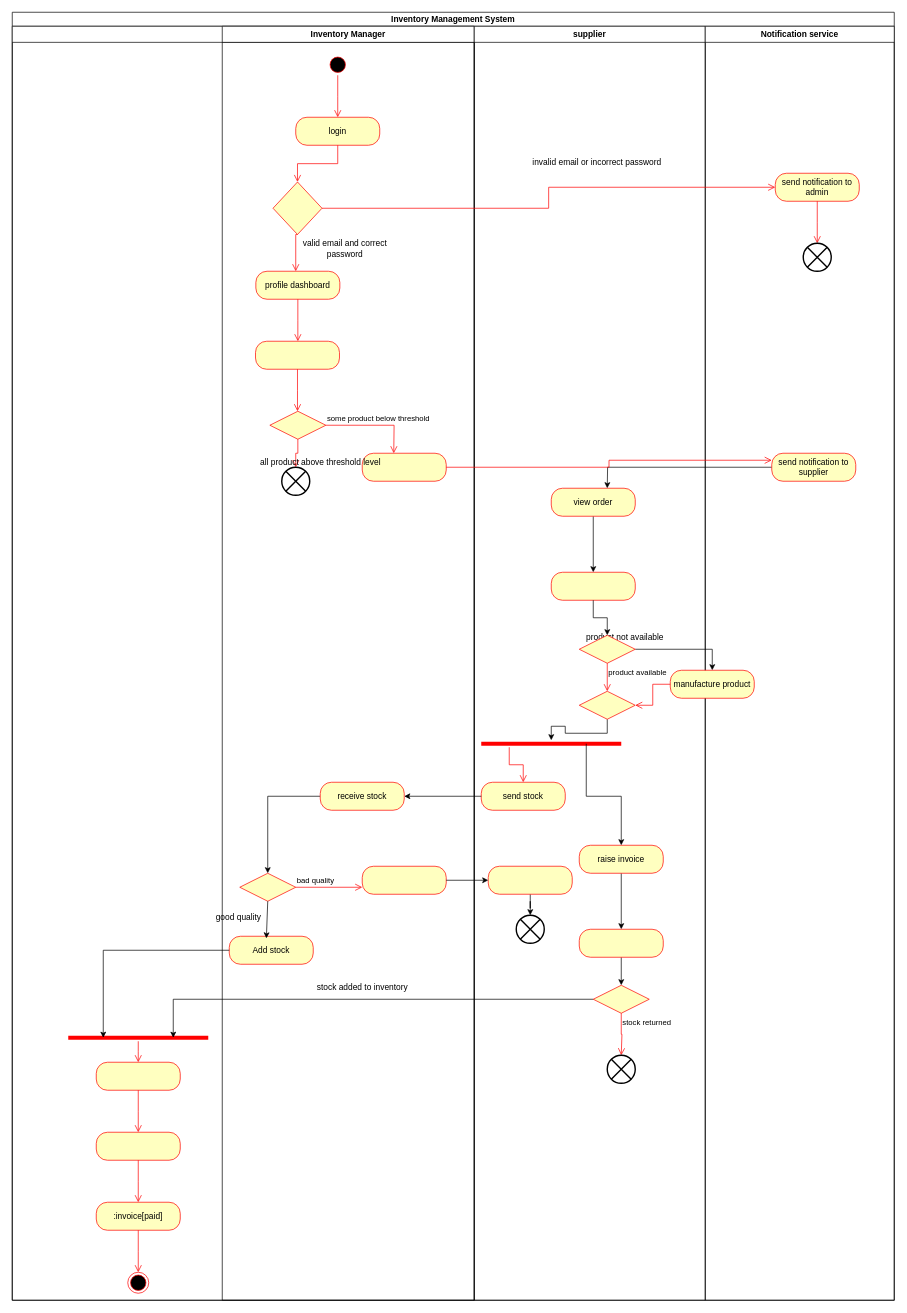
Image size: 907x1313. Some labels were removed from this diagram. Each missing label, with the centre of its shape:
:invoice [unpaid]: (x=621, y=943)
check notification: (x=297, y=355)
check product available: (x=593, y=586)
pay supplier: (x=138, y=1146)
place order: (x=404, y=467)
receive return stock: (x=530, y=880)
return stock: (x=404, y=880)
view invoice: (x=138, y=1076)
